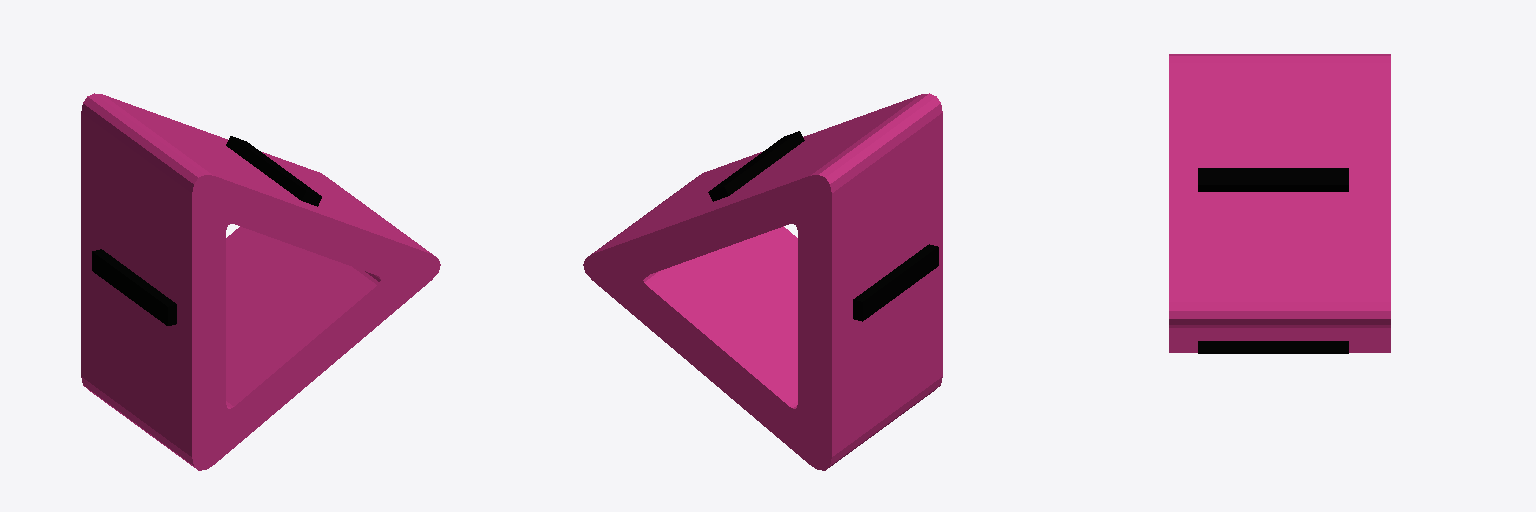
File: One_shadow.OBJ
3 views of the same model, side by side, from view 1: azimuth 30°, elevation 25°; view 2: azimuth 150°, elevation 25°; view 3: azimuth 270°, elevation 25° (orthographic).
Parts seen in each view (by area): view 1: /ambf/icl/One_shadow_PuzzleRed1; view 2: /ambf/icl/One_shadow_PuzzleRed1; view 3: /ambf/icl/One_shadow_PuzzleRed1.
Part boxes in pixels (left/top/right/bottom): /ambf/icl/One_shadow_PuzzleRed1: left=81, top=93, right=440, bottom=470; /ambf/icl/One_shadow_PuzzleRed1: left=583, top=93, right=942, bottom=470; /ambf/icl/One_shadow_PuzzleRed1: left=1169, top=54, right=1390, bottom=353.
Bounding box in the file's own units: 0.1305 × 0.1426 × 0.097.